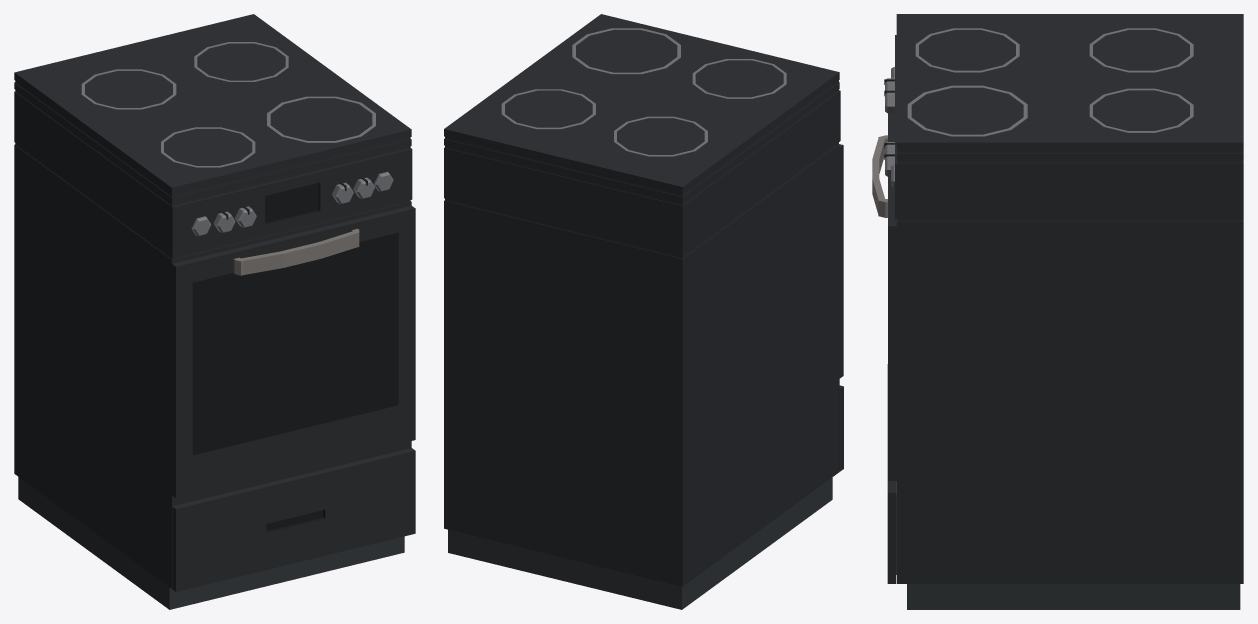
Rendered from electricstove_01_E.gltf.
3 views of the same model, side by side, from view 1: azimuth 30°, elevation 25°; view 2: azimuth 150°, elevation 25°; view 3: azimuth 270°, elevation 25° (orthographic). The views are drawn at different scales.
Visible parts, largest first — view 1: electricstove_01_E, Doorforelectricstove_01_E, pulloutshelfforelectricstove_01_E; view 2: electricstove_01_E, Doorforelectricstove_01_E; view 3: electricstove_01_E, Doorforelectricstove_01_E, pulloutshelfforelectricstove_01_E.
Boxes of the visible parts, left/top/right/bottom form: electricstove_01_E: left=14, top=14, right=412, bottom=609; Doorforelectricstove_01_E: left=172, top=205, right=415, bottom=498; pulloutshelfforelectricstove_01_E: left=172, top=448, right=415, bottom=591; electricstove_01_E: left=444, top=14, right=840, bottom=609; Doorforelectricstove_01_E: left=839, top=144, right=843, bottom=378; electricstove_01_E: left=895, top=14, right=1243, bottom=609; Doorforelectricstove_01_E: left=872, top=113, right=896, bottom=480; pulloutshelfforelectricstove_01_E: left=887, top=364, right=896, bottom=583.
Bounding box in the file's own units: 0.5 × 0.8508 × 0.6099.
1 material, 1 textured.
